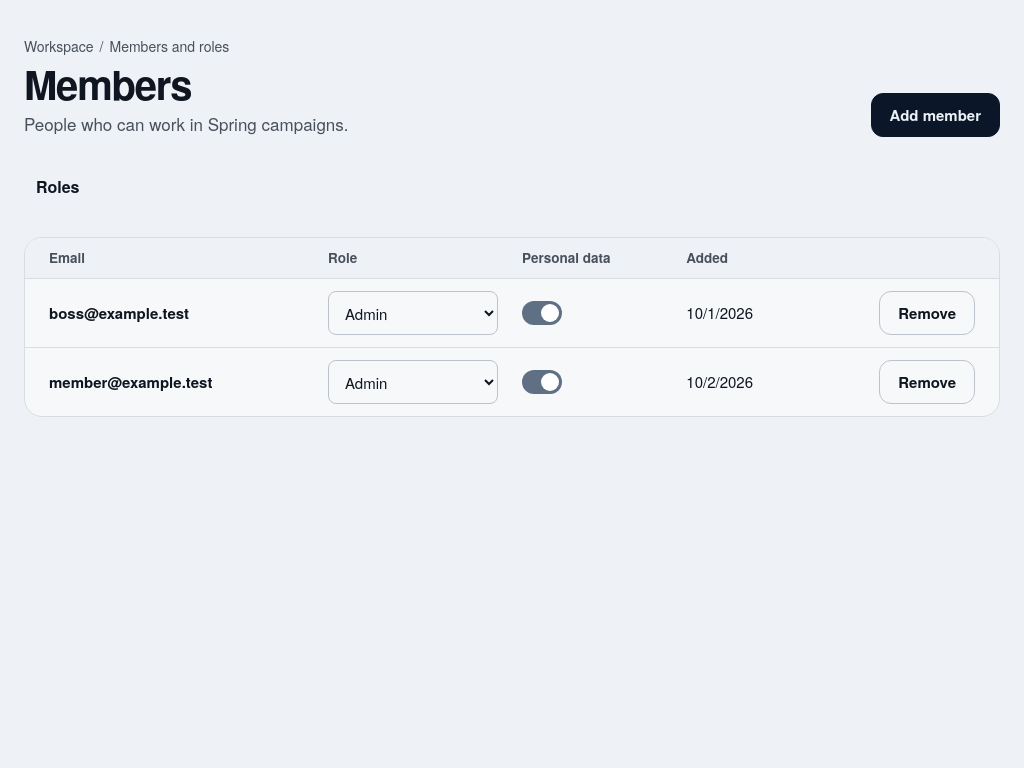
it: members › shows the same reason, not a dialog error, when a removal is refused with last_admin
Click the button with aria-label "Remove boss@example.test". click: coordinates (927, 313)
box: [879, 291, 975, 335]
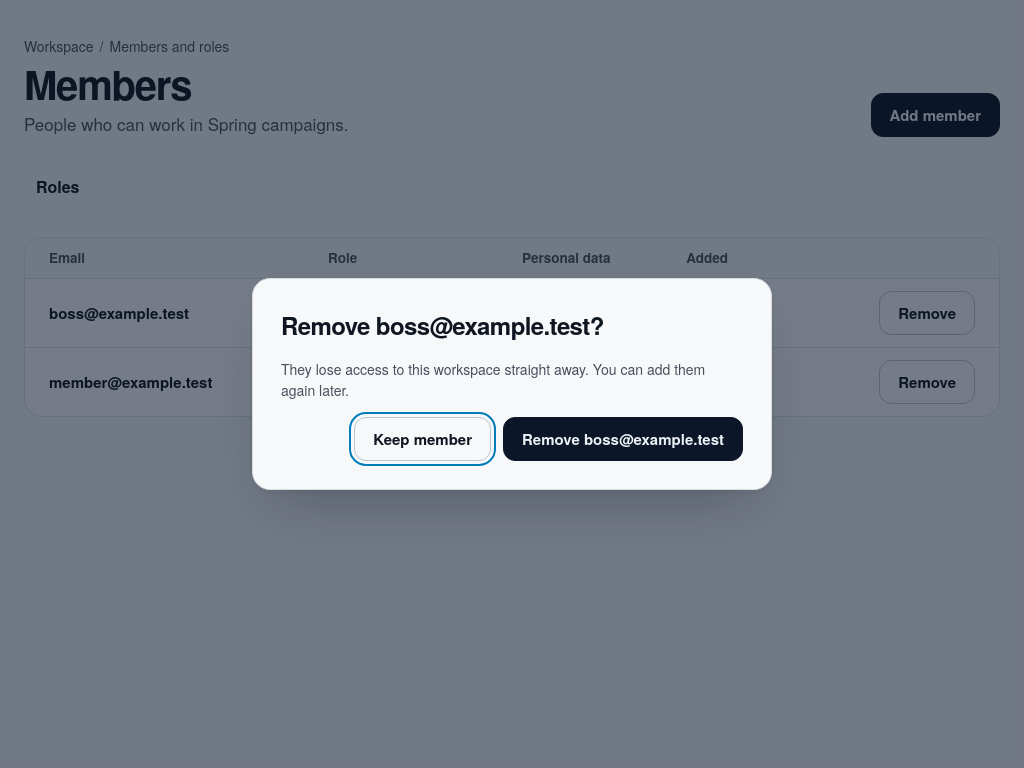
Click the button "Remove boss@example.test". click: coordinates (623, 439)
box: [503, 417, 743, 461]
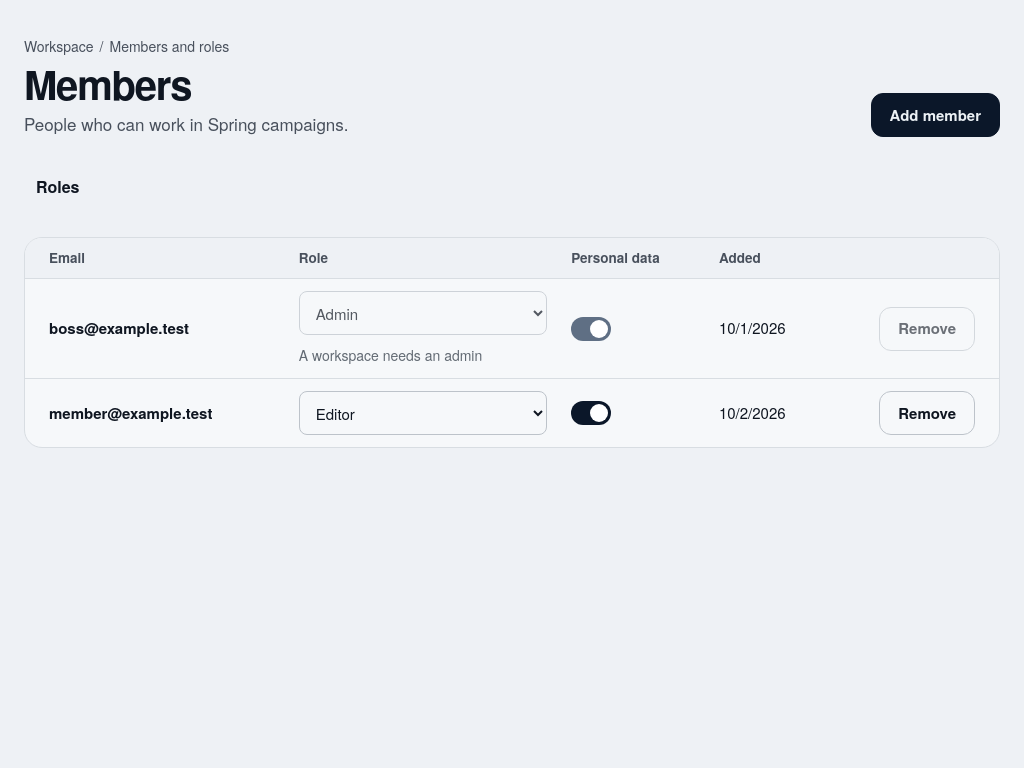
Now the text "A workspace needs an admin" is shown, box [299, 345, 482, 365]
Now the dialog is gone
Now the button with aria-label "Remove boss@example.test" is disabled, box [879, 307, 975, 351]
